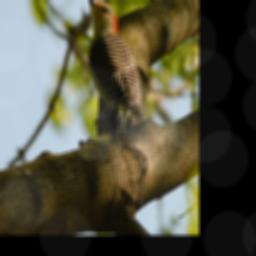Woodpecker: (82, 0, 142, 148)
